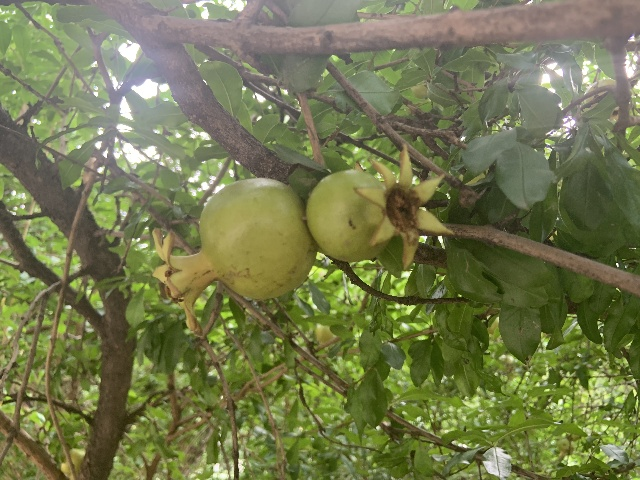mid-growth: (150, 178, 316, 334), (306, 147, 450, 270)
